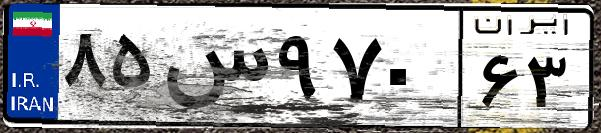0: (385, 28, 445, 110)
3: (525, 38, 570, 115)
5: (110, 28, 158, 98)
6: (475, 38, 525, 113)
7: (330, 28, 385, 110)
8: (57, 26, 110, 100)
9: (270, 28, 330, 110)
س: (158, 20, 270, 120)
